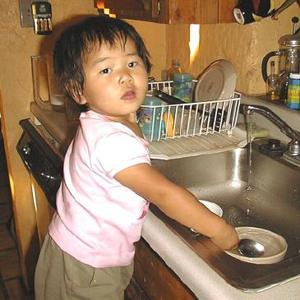person: (35, 16, 240, 300)
